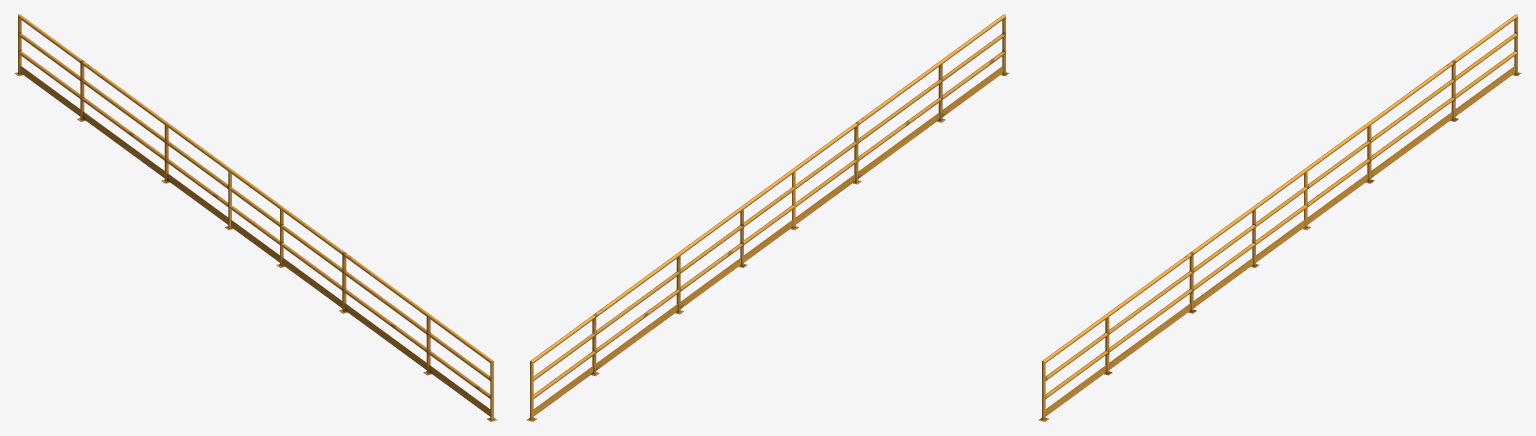
3 views of the same model, side by side, from view 1: azimuth 30°, elevation 25°; view 2: azimuth 150°, elevation 25°; view 3: azimuth 330°, elevation 25° (orthographic).
Visible parts, largest first — view 1: body0_model0_lod0_mesh0; view 2: body0_model0_lod0_mesh0; view 3: body0_model0_lod0_mesh0.
Boxes of the visible parts, left/top/right/bottom form: body0_model0_lod0_mesh0: left=14, top=14, right=497, bottom=421; body0_model0_lod0_mesh0: left=526, top=14, right=1009, bottom=421; body0_model0_lod0_mesh0: left=1038, top=14, right=1521, bottom=421.
Size of the model in its own units: 3.98 by 32.99 by 480.
1 material, 1 textured.
